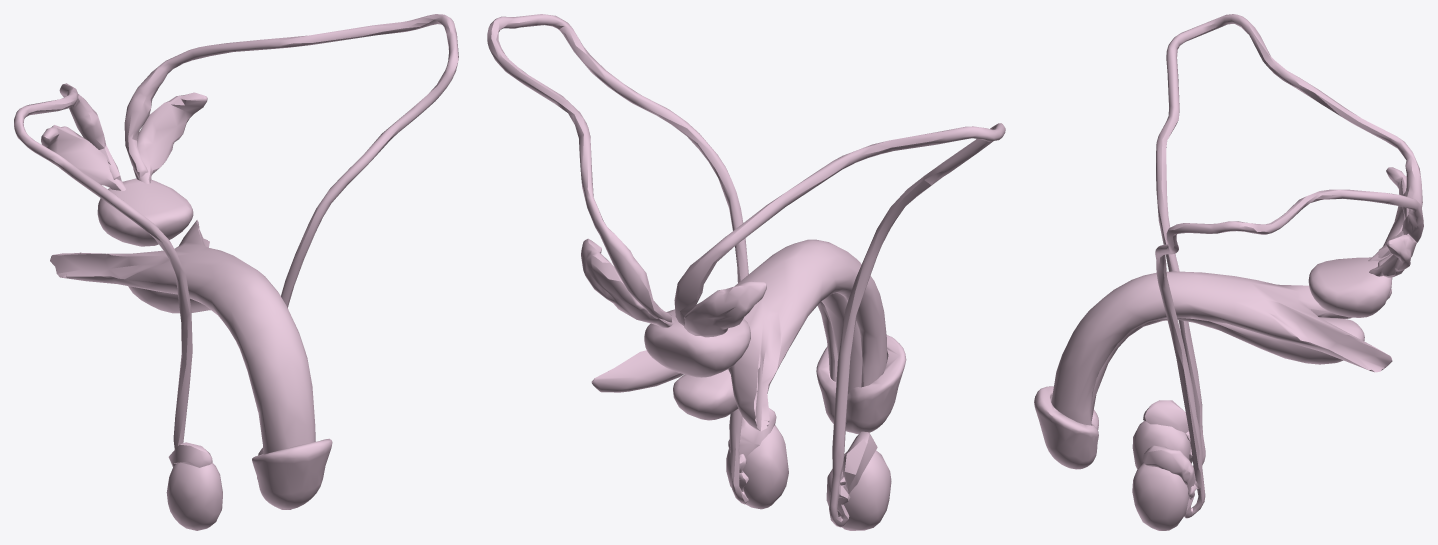
File: genital-m-bassin.hi.glb
3 renders of one model, left to right at view 1: azimuth 30°, elevation 25°; view 2: azimuth 150°, elevation 25°; view 3: azimuth 270°, elevation 25°, orthographic. The views are drawn at different scales.
Visible parts, largest first — view 1: FJ3132, FJ3135, FJ3140, FJ3139, FJ3134, FJ3142, FJ3137, FJ3143, FJ3133, FJ3141; view 2: FJ3132, FJ3140, FJ3135, FJ3139, FJ3133, FJ3134, FJ3138, FJ3143, FJ3142, FJ3137, FJ3141, FJ3136; view 3: FJ3132, FJ3140, FJ3135, FJ3139, FJ3134, FJ3138, FJ3133, FJ3142, FJ3136, FJ3137, FJ3141, FJ3143.
Boxes of the visible parts, <box> form: FJ3132: <box>50,220,315,454</box>; FJ3135: <box>124,14,458,307</box>; FJ3140: <box>14,83,192,449</box>; FJ3139: <box>97,178,193,246</box>; FJ3134: <box>252,438,332,509</box>; FJ3142: <box>166,462,222,530</box>; FJ3137: <box>133,92,207,183</box>; FJ3143: <box>41,125,125,190</box>; FJ3133: <box>128,286,210,313</box>; FJ3141: <box>168,442,212,467</box>; FJ3132: <box>591,239,886,431</box>; FJ3140: <box>674,123,1005,527</box>; FJ3135: <box>487,14,748,504</box>; FJ3139: <box>644,309,750,377</box>; FJ3133: <box>673,293,862,420</box>; FJ3134: <box>816,335,906,434</box>; FJ3138: <box>726,425,788,509</box>; FJ3143: <box>684,281,766,337</box>; FJ3142: <box>826,450,891,530</box>; FJ3137: <box>581,238,674,327</box>; FJ3141: <box>842,431,877,493</box>; FJ3136: <box>728,408,776,457</box>; FJ3132: <box>1051,271,1392,425</box>; FJ3140: <box>1156,14,1422,466</box>; FJ3135: <box>1155,189,1423,518</box>; FJ3139: <box>1308,257,1392,317</box>; FJ3134: <box>1034,386,1098,469</box>; FJ3138: <box>1132,463,1188,530</box>; FJ3133: <box>1091,317,1364,423</box>; FJ3142: <box>1132,421,1190,469</box>; FJ3136: <box>1142,445,1195,499</box>; FJ3137: <box>1369,233,1416,277</box>; FJ3141: <box>1143,400,1188,433</box>; FJ3143: <box>1368,167,1406,261</box>.
Bounding box in the file's own units: 0.1867 × 0.1712 × 0.1483.
